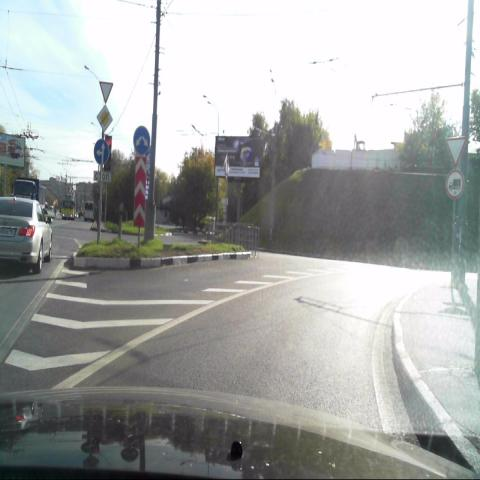2_2: (95, 105, 113, 133)
3_4_1: (444, 166, 464, 197)
4_1_5: (93, 137, 110, 167)
